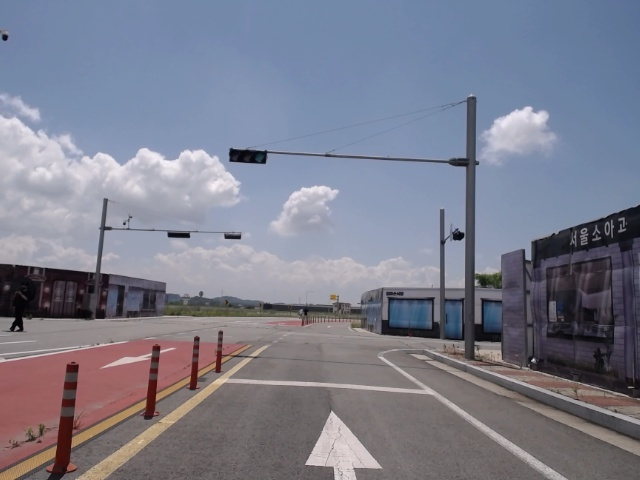green_3: (231, 149, 267, 163)
